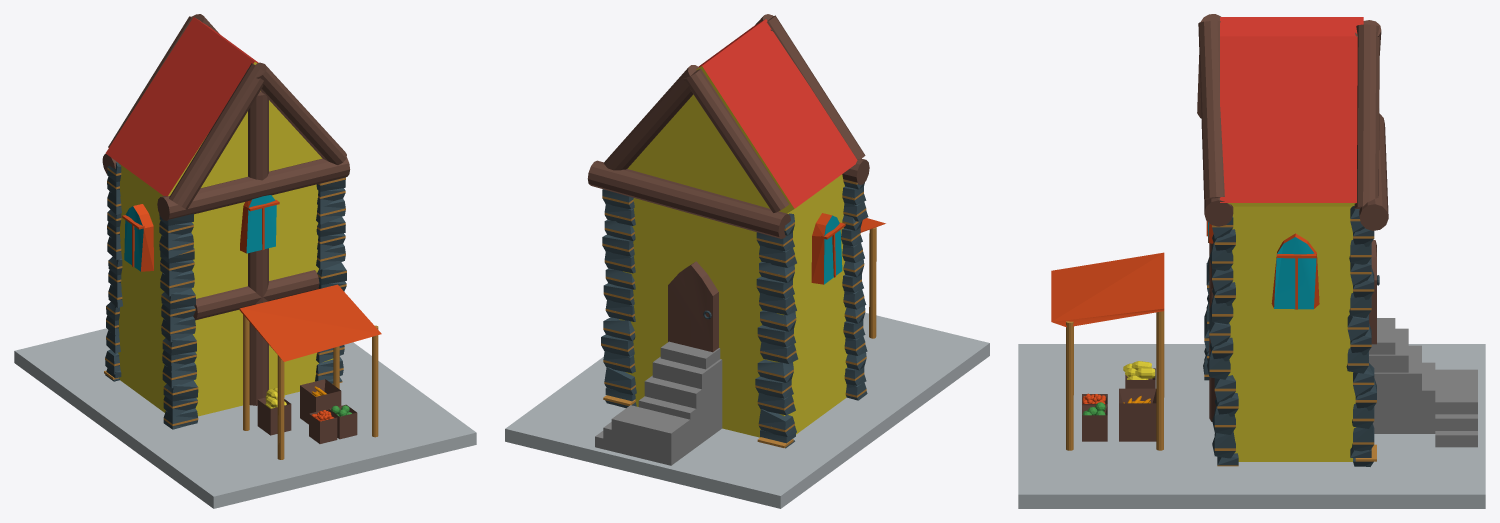
The picture shows the model from 3 angles, left to right: view 1: azimuth 30°, elevation 25°; view 2: azimuth 150°, elevation 25°; view 3: azimuth 270°, elevation 25°; orthographic projection. The views are drawn at different scales.
Parts seen in each view (by area): view 1: node_MeshObject559883072-PolyPaper12, node_MeshObject41163008-PolyPaper12; view 2: node_MeshObject559883072-PolyPaper12, node_MeshObject41163008-PolyPaper12; view 3: node_MeshObject559883072-PolyPaper12, node_MeshObject41163008-PolyPaper12.
Part boxes in pixels (box(x1,y1,x2,y2)): node_MeshObject559883072-PolyPaper12: box(14, 14, 476, 508); node_MeshObject41163008-PolyPaper12: box(105, 17, 346, 429); node_MeshObject559883072-PolyPaper12: box(505, 14, 989, 508); node_MeshObject41163008-PolyPaper12: box(619, 19, 868, 437); node_MeshObject559883072-PolyPaper12: box(1018, 14, 1485, 508); node_MeshObject41163008-PolyPaper12: box(1082, 17, 1363, 466).
Bounding box in the file's own units: 1.34 × 1.72 × 1.76.
